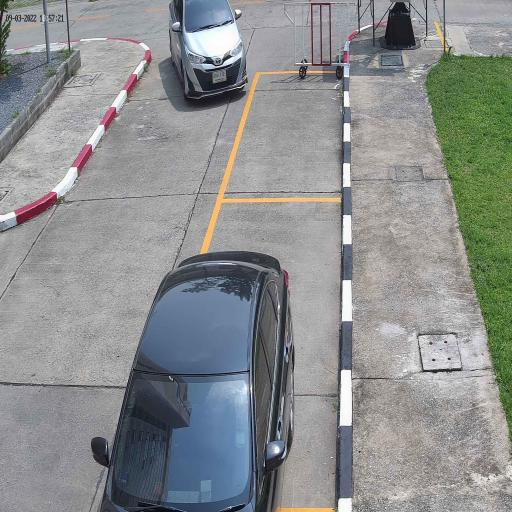car: (98, 247, 297, 512), (167, 0, 249, 101)
